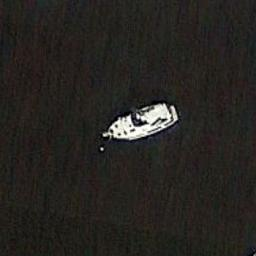boat: (101, 101, 178, 141)
